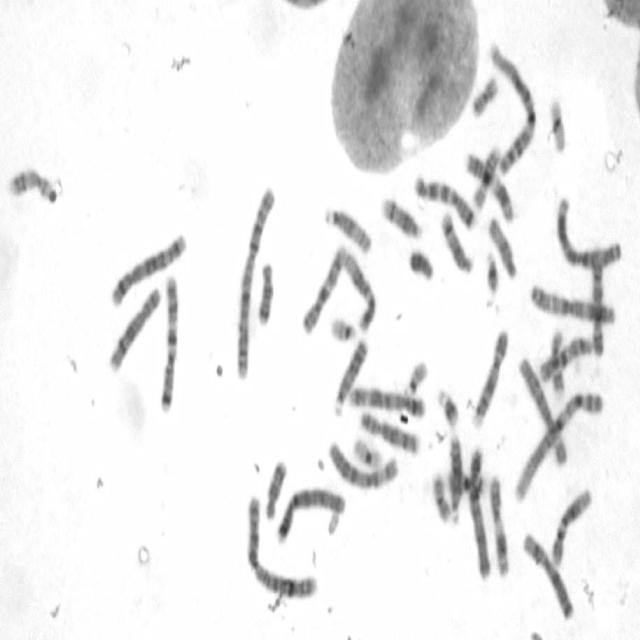A1: (512, 391, 606, 504), (488, 42, 537, 178)
A2: (234, 185, 276, 379), (245, 495, 319, 601)
A3: (556, 194, 622, 272), (528, 281, 618, 327)
B4: (276, 487, 346, 545), (468, 445, 492, 584)
B5: (110, 230, 187, 308), (348, 382, 426, 418)
C10: (301, 243, 347, 338), (538, 335, 594, 384)
C11: (464, 150, 514, 223), (488, 472, 510, 579)
C12: (551, 486, 594, 569), (343, 251, 377, 333)
C6: (518, 355, 568, 468), (327, 439, 400, 494)
C7: (413, 172, 477, 233), (159, 275, 180, 415)
C8: (110, 283, 163, 374), (358, 409, 420, 456)
C9: (471, 329, 509, 432), (589, 244, 606, 360)
D13: (333, 338, 369, 418), (448, 434, 463, 528)
D14: (380, 194, 424, 242), (441, 211, 474, 275)
D15: (324, 206, 372, 257), (487, 215, 518, 281)
E16: (472, 144, 502, 211), (444, 466, 488, 500)
E17: (8, 167, 52, 201), (548, 328, 567, 396)
E18: (264, 458, 288, 520), (258, 264, 274, 328)
F19: (351, 435, 385, 473), (548, 94, 568, 157)
F20: (470, 76, 498, 120), (431, 472, 452, 526)
G21: (436, 384, 461, 430), (483, 248, 500, 295)
G22: (403, 359, 429, 398), (328, 315, 358, 345)
X: (522, 528, 576, 623)
Y: (408, 249, 436, 284)
